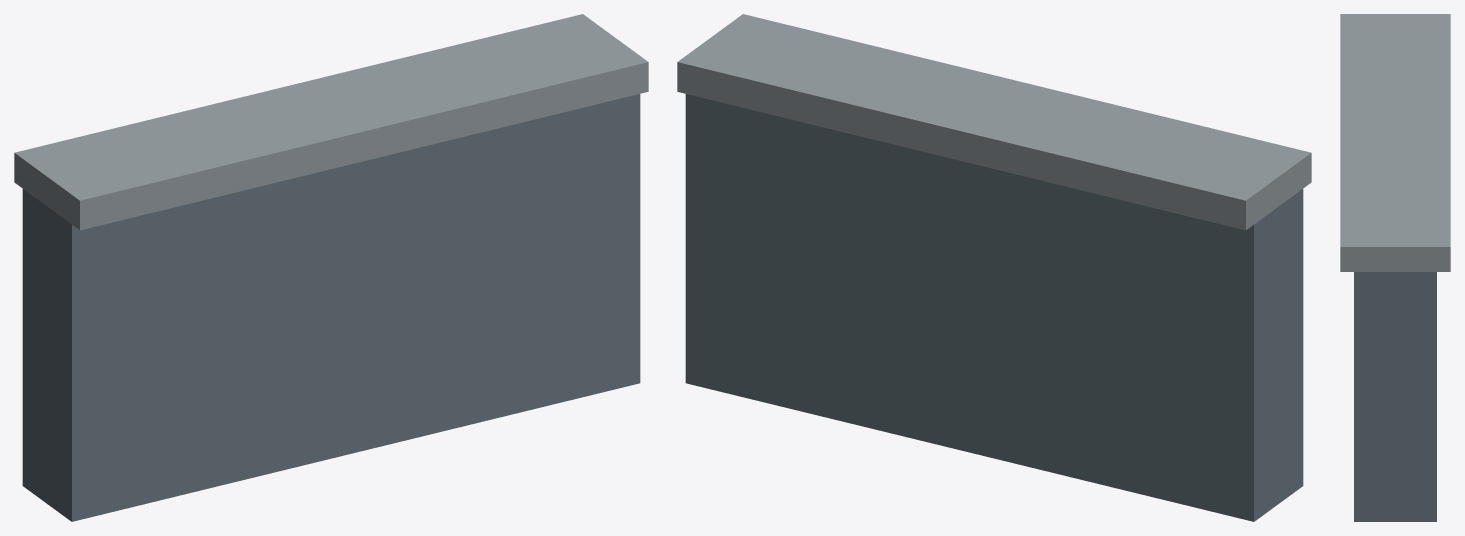
File: Blockland_RetainingWallStraight_Simple.glb
The picture shows the model from 3 angles, left to right: view 1: azimuth 30°, elevation 25°; view 2: azimuth 150°, elevation 25°; view 3: azimuth 270°, elevation 25°; orthographic projection. The views are drawn at different scales.
Parts seen in each view (by area): view 1: Blockland_RetainingWallStraight_Simple; view 2: Blockland_RetainingWallStraight_Simple; view 3: Blockland_RetainingWallStraight_Simple.
Part boxes in pixels (x1,y1,x2,y2): Blockland_RetainingWallStraight_Simple: (14, 14, 648, 521); Blockland_RetainingWallStraight_Simple: (677, 14, 1311, 521); Blockland_RetainingWallStraight_Simple: (1340, 14, 1450, 521).
Size of the model in its own units: 4 by 2.2 by 0.8.
